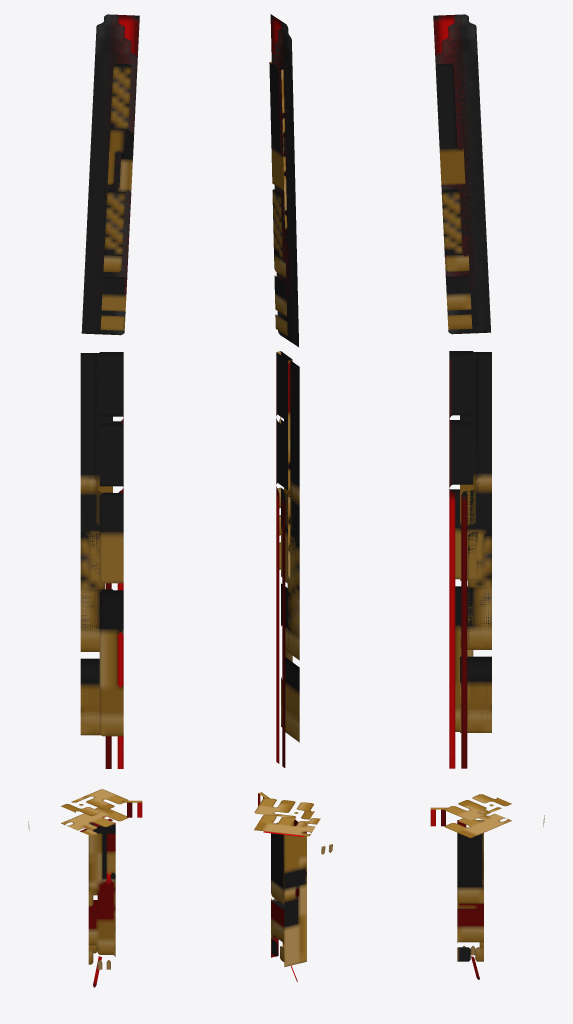
File: origin_joyeuse.obj
The picture shows the model from 3 angles, left to right: view 1: azimuth 90°, elevation 25°; view 2: azimuth 210°, elevation 25°; view 3: azimuth 270°, elevation 25°; orthographic projection.
Parts seen in each view (by area): view 1: cube; view 2: cube; view 3: cube.
Boxes of the visible parts, x1,y1,x2,y2 form: cube: (28, 14, 142, 987); cube: (254, 14, 332, 981); cube: (430, 14, 544, 979).
Size of the model in its own units: 0.4861 by 6.42 by 1.09.
